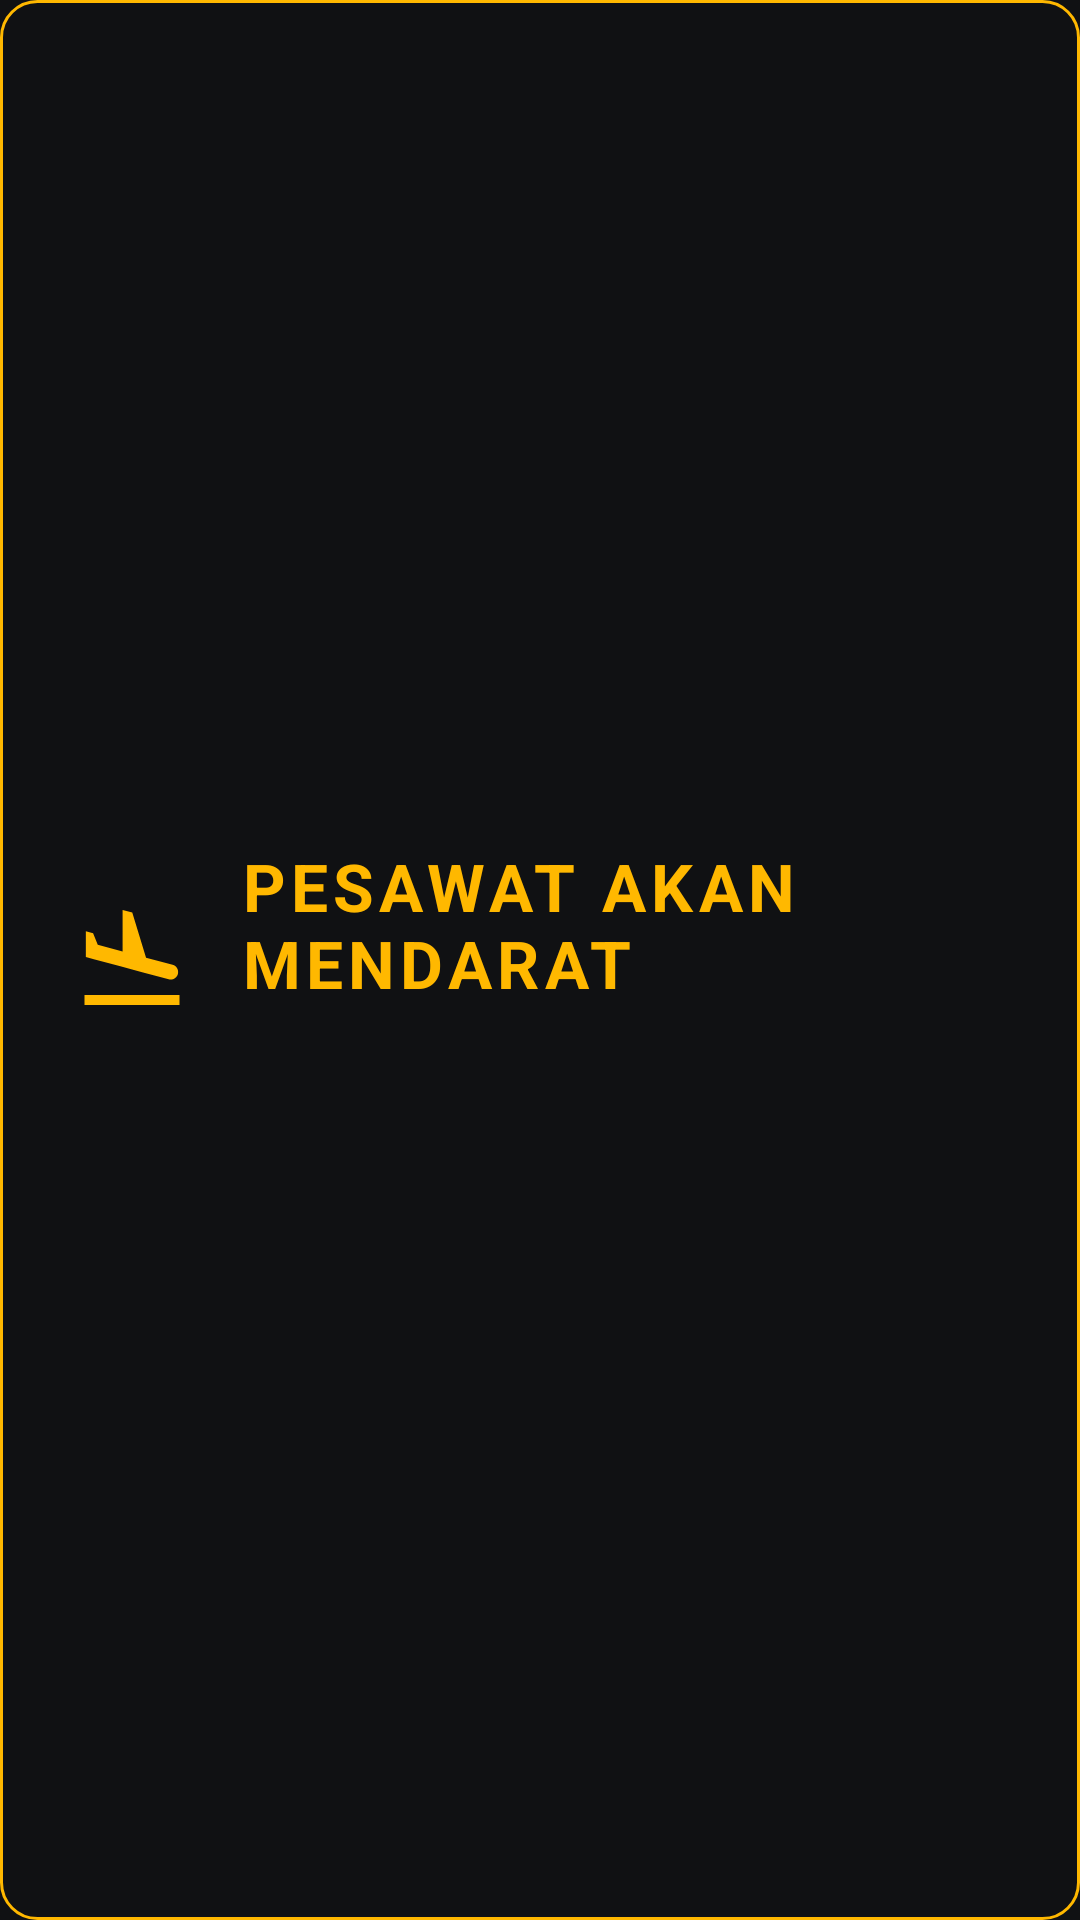

Icon bounding boxes for this 1080*1920 phone screenshot, format [x1=x1, y1=y1, x2=x2, y2=y2]:
plane landing: [x1=84, y1=910, x2=180, y2=1005]
